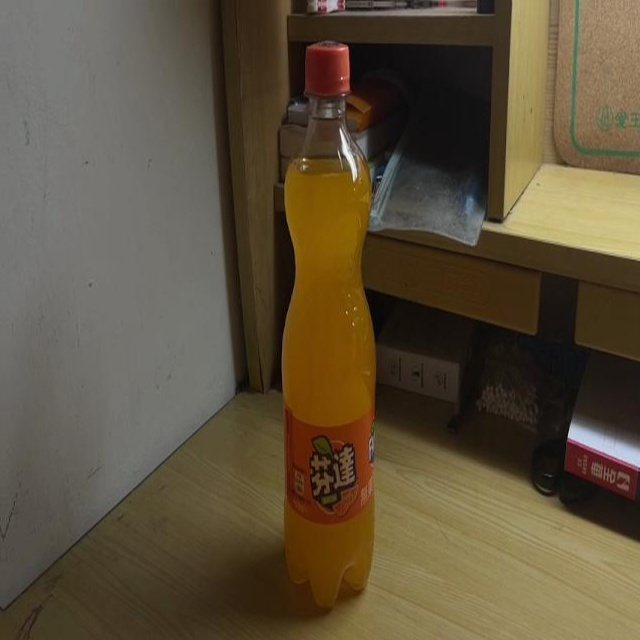Fanta: (276, 34, 376, 606)
